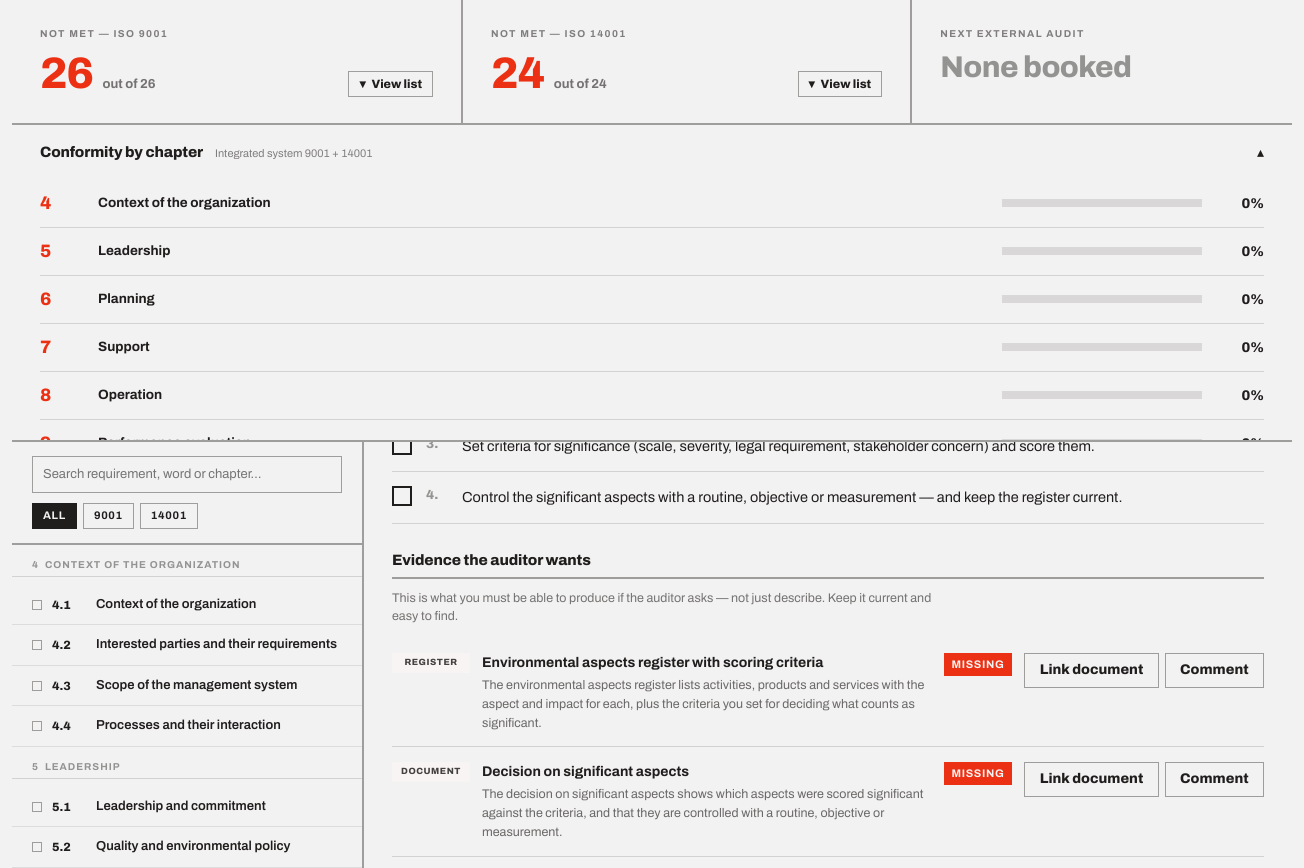
it: linking evidence to documents › works the same way in English — links come from the register, not local copy
The width and height of the screenshot is (1304, 868).
(page scrolled)
Click the 1st button "Link document".
click(1092, 670)  # box [1024,653,1159,688]
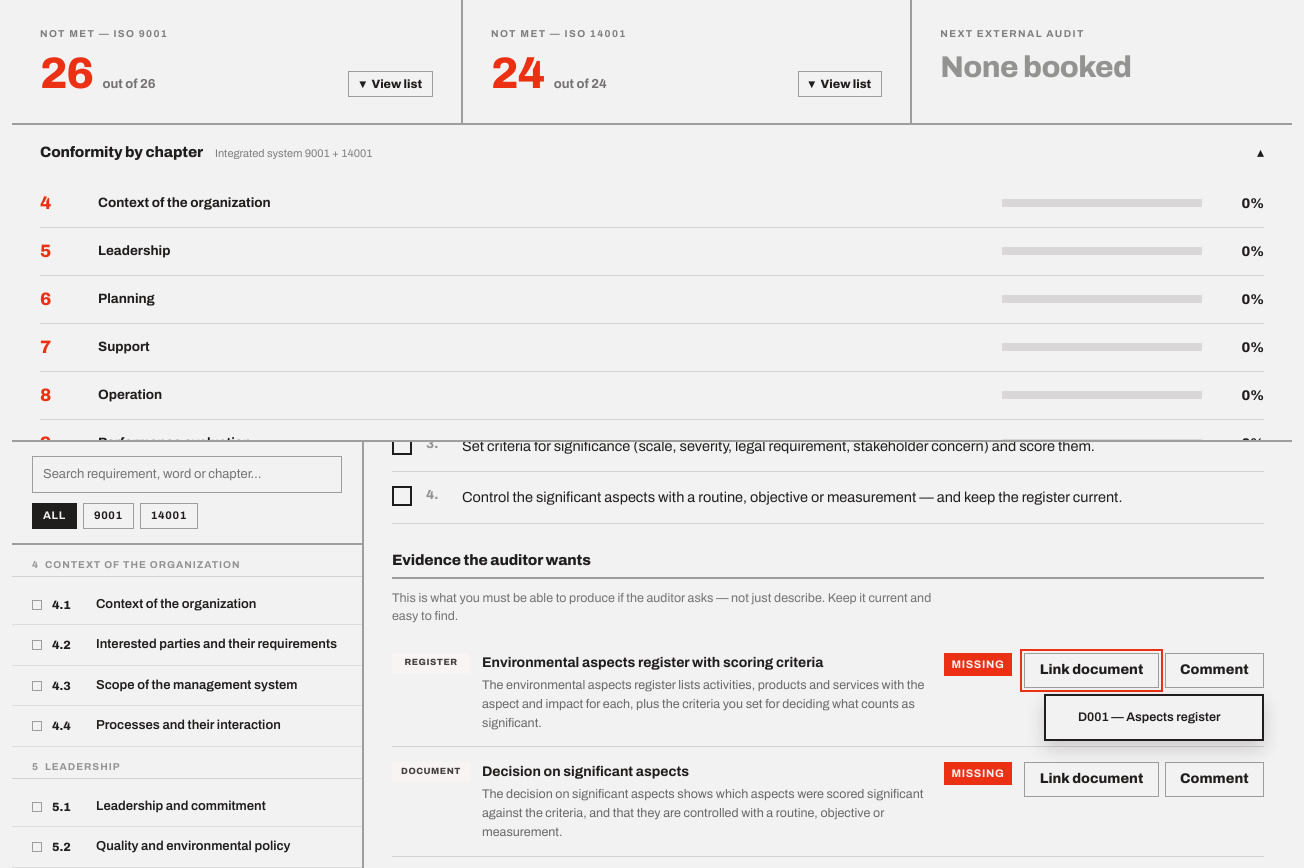
Click the menu item "D001 — Aspects register".
click(1154, 717)  # box [1050,700,1258,735]
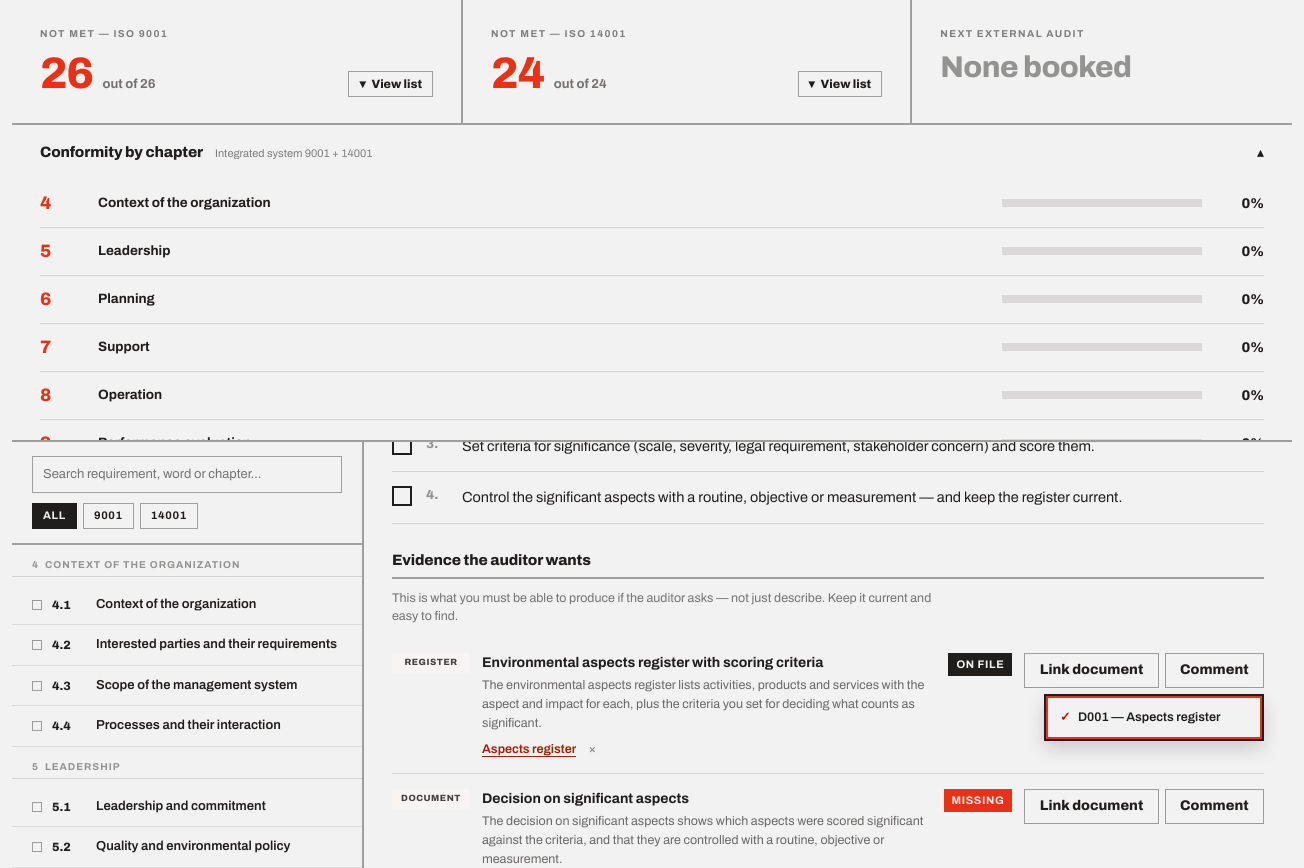
expect the link "Aspects register" is shown: met, box [482,740,576,759]
expect the text "On file" is shown: met, box [948,653,1012,676]
